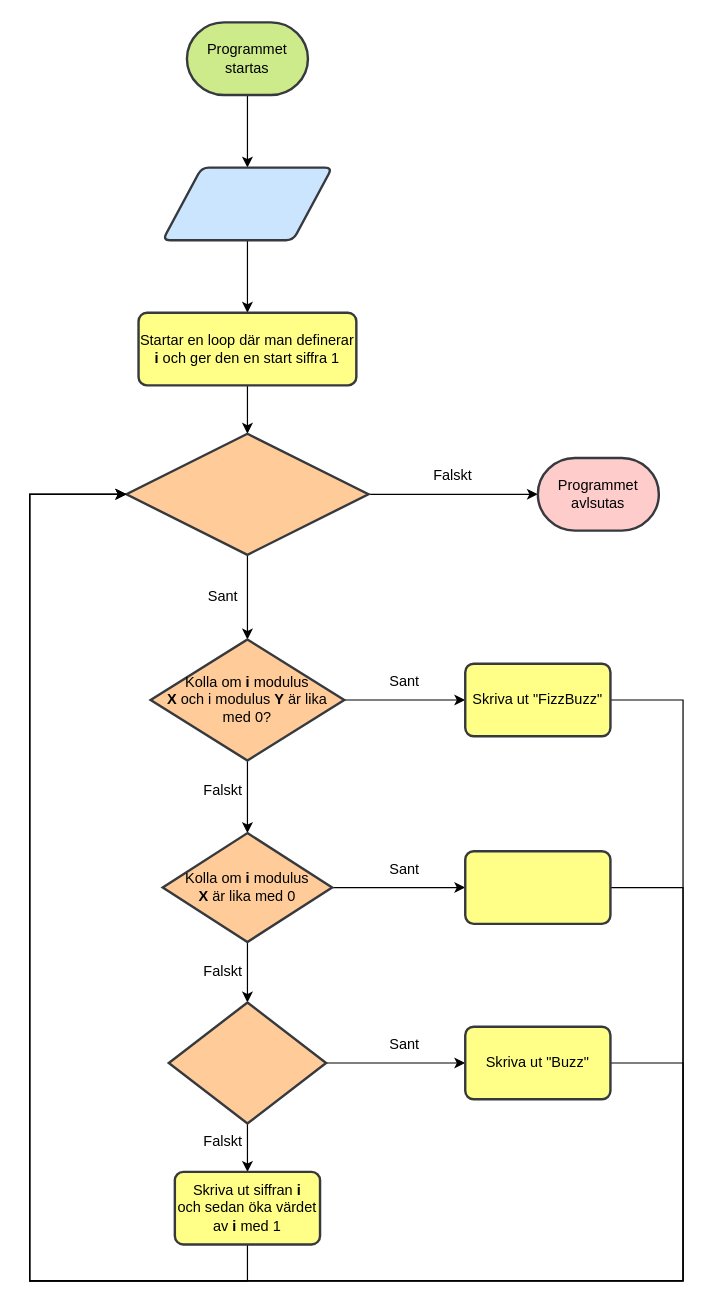
Image size: 714x1312. Some labels were removed from this diagram. The shapes that lost their labels are listed below. From the top down, each one's centre as x and y in pixels, then its label:
pixel 247 203: Tar in 3 siffror i formatet X Y N och sparar dem
pixel 247 493: Är siffran i mindre än eller lika med N ?
pixel 537 886: Skriva ut "Fizz"
pixel 247 1062: Kolla om i modulus Y är lika med 0
